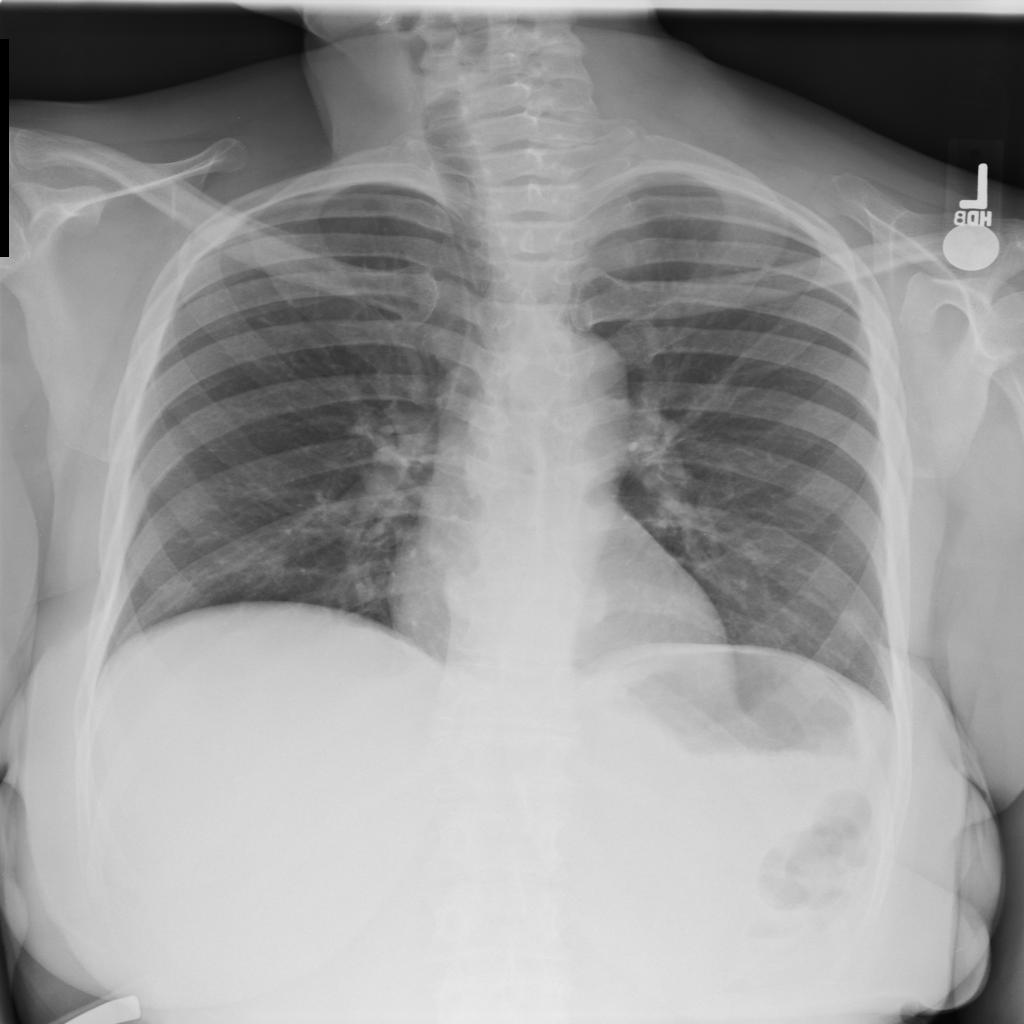nodule: (426, 554, 497, 628), (824, 601, 877, 651)
